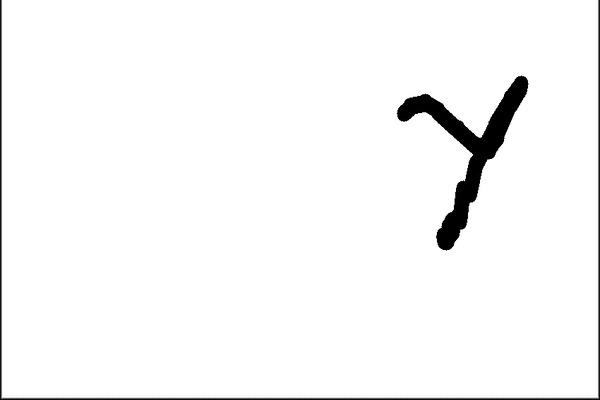Y: (387, 65, 538, 256)
